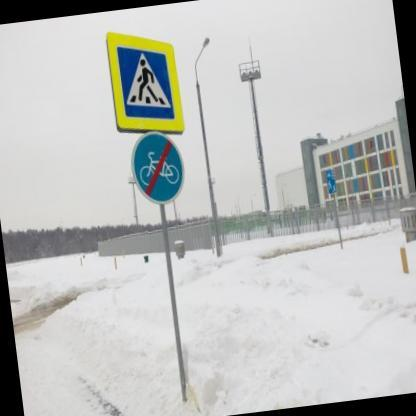road_sign: (107, 33, 184, 133), (129, 132, 182, 204), (323, 168, 345, 199)
